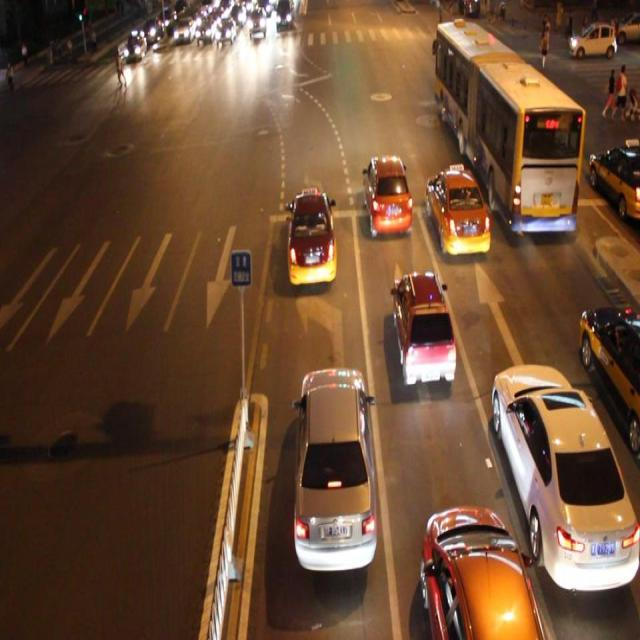car: (490, 362, 640, 591), (291, 364, 375, 571), (418, 505, 544, 640), (577, 302, 640, 452), (391, 270, 455, 388), (425, 168, 488, 258), (285, 189, 337, 286), (586, 138, 640, 216), (362, 154, 412, 237)
van: (434, 19, 584, 238)
